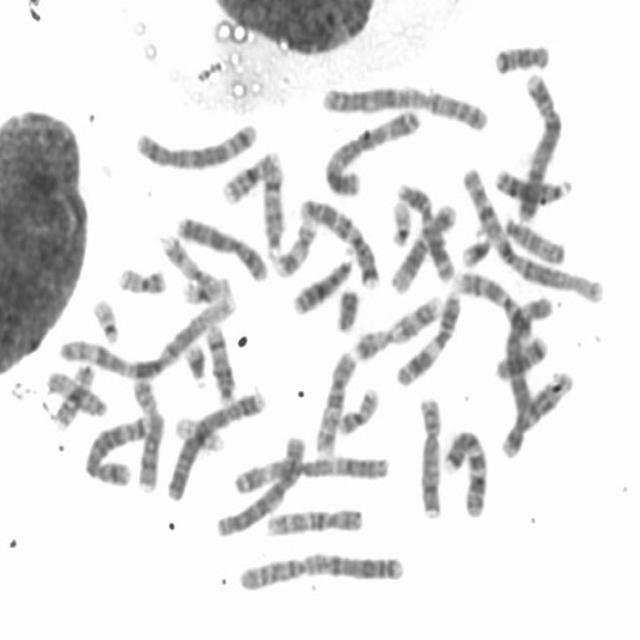A1: (460, 169, 604, 304), (56, 296, 239, 380)
A2: (321, 85, 489, 134), (232, 550, 404, 596)
A3: (324, 109, 422, 197), (231, 456, 391, 498)
B4: (166, 390, 264, 504), (516, 70, 562, 222)
B5: (135, 122, 258, 172), (83, 414, 149, 490)
C10: (313, 352, 356, 457), (265, 507, 365, 540)
C11: (395, 293, 464, 389), (395, 182, 458, 286)
C12: (497, 371, 576, 462), (387, 202, 456, 298)
C6: (215, 433, 308, 540), (504, 293, 555, 431)
C7: (296, 197, 382, 293), (443, 431, 488, 519)
C8: (130, 373, 166, 494), (413, 398, 444, 520)
C9: (354, 292, 446, 361), (455, 270, 533, 341)
D13: (288, 246, 356, 317), (494, 168, 574, 206)
D14: (261, 156, 286, 263), (202, 326, 236, 404)
D15: (43, 370, 111, 420), (503, 217, 568, 266)
E16: (52, 365, 98, 432), (221, 150, 278, 204)
E17: (159, 236, 218, 290), (272, 215, 319, 280)
E18: (495, 336, 548, 381), (493, 43, 550, 75)
F19: (174, 418, 227, 453), (182, 278, 235, 306)
F20: (338, 386, 378, 436), (119, 266, 170, 296)
G21: (182, 341, 209, 392), (459, 235, 492, 269)
G22: (92, 299, 121, 345), (389, 200, 414, 248)
X: (176, 216, 269, 284)
Y: (335, 288, 362, 333)
